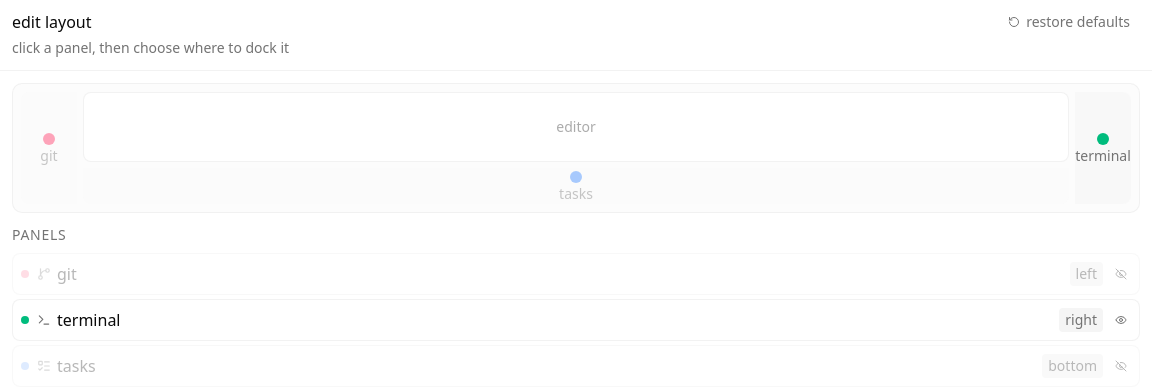
Test: panel selection › clicking a selected panel deselects it
Click the element showing "git left" at [576, 274], box x1=12 y1=253 x2=1140 y2=295
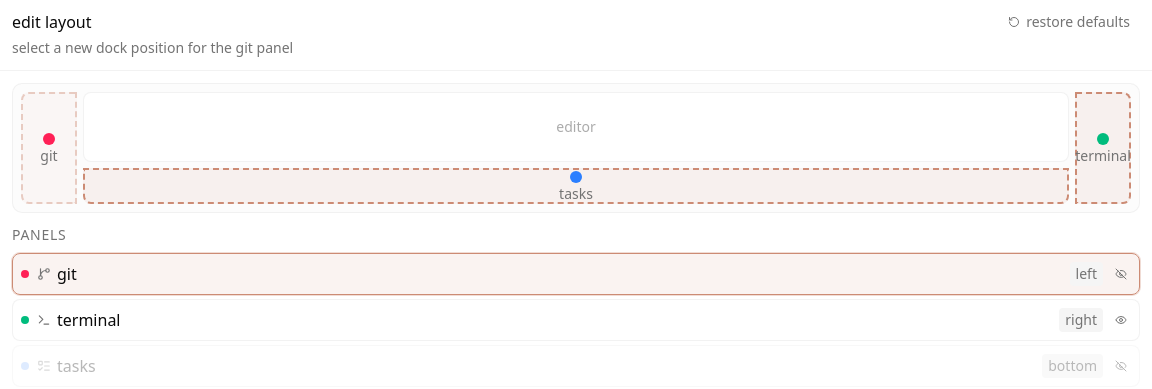
Click the element showing "git left" at [576, 274], box x1=12 y1=253 x2=1140 y2=295
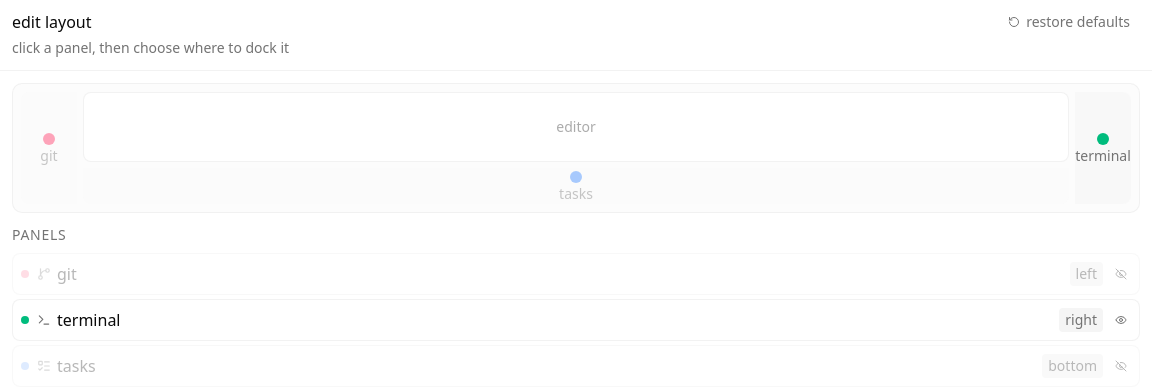
expect the text "click a panel, then choose where to dock it" is shown: met, box x1=12 y1=38 x2=289 y2=57
